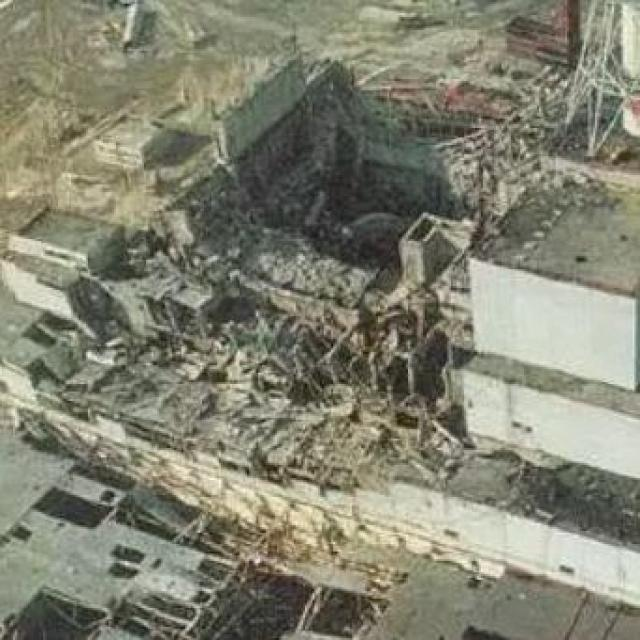collapsed_building: (32, 83, 500, 546)
